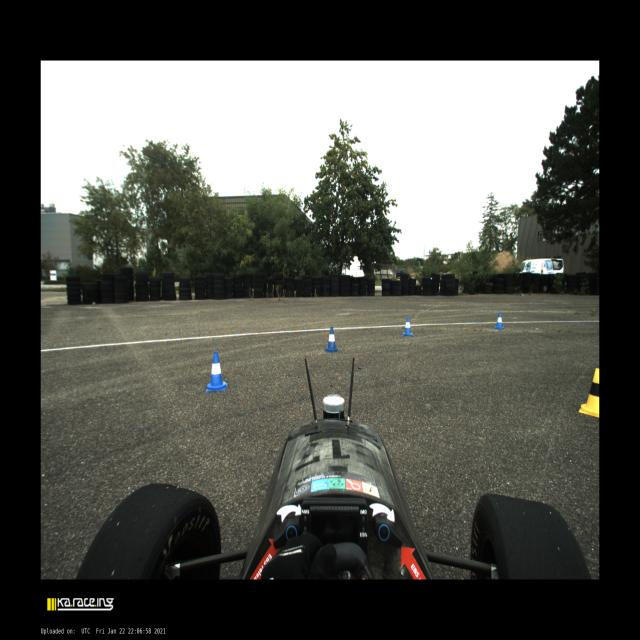blue_cone: (206, 352, 227, 392), (326, 327, 338, 353), (402, 316, 413, 336), (494, 312, 504, 330)
yellow_cone: (579, 368, 599, 418)
